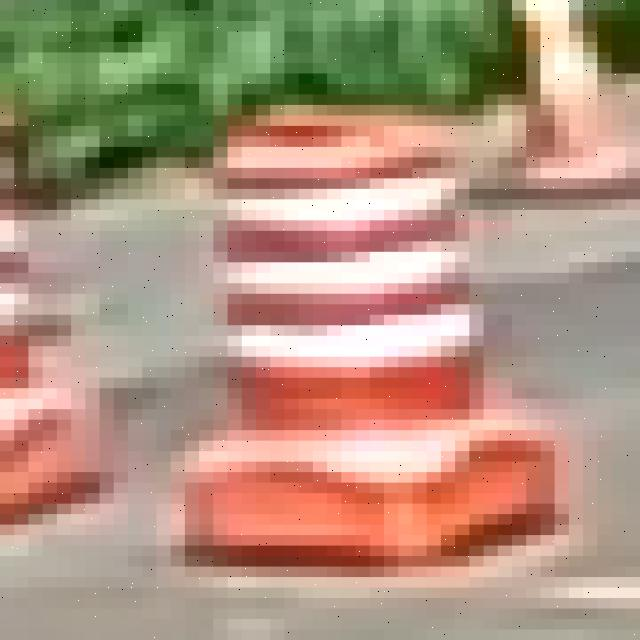big_cone: (208, 112, 459, 572)
